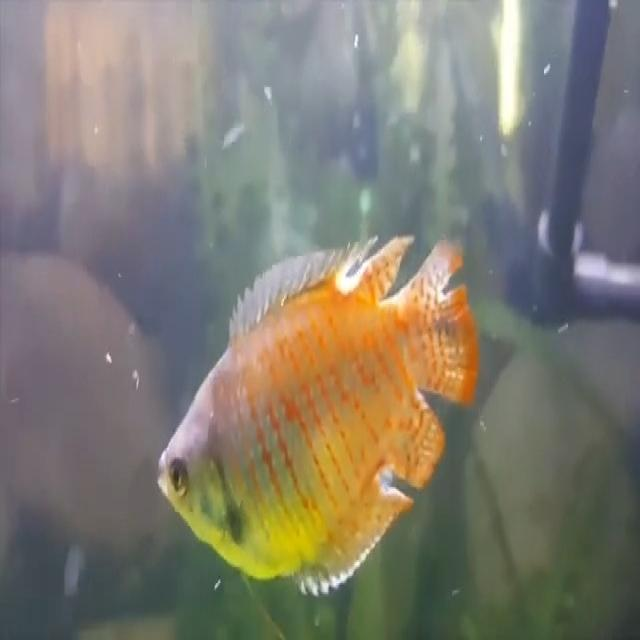fish: (153, 227, 486, 601)
